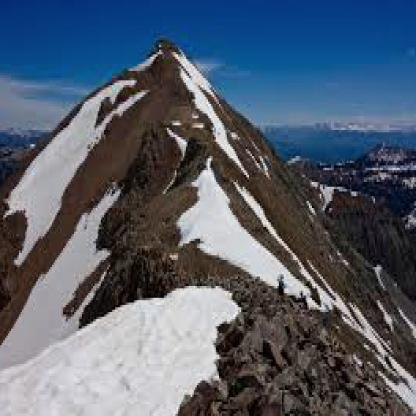Igneous_Diorite: (216, 267, 388, 414)
